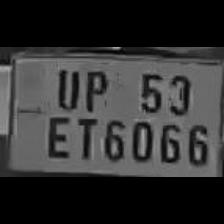0: (127, 116, 153, 162)
3: (165, 69, 193, 114)
5: (135, 70, 164, 113)
6: (98, 115, 127, 161), (183, 120, 211, 166), (155, 119, 181, 164)
E: (42, 112, 72, 160)
P: (78, 65, 110, 111)
T: (71, 115, 97, 161)
U: (51, 64, 80, 110)
